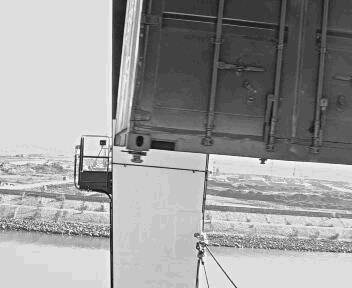twist_lock_1: (119, 145, 153, 169)
